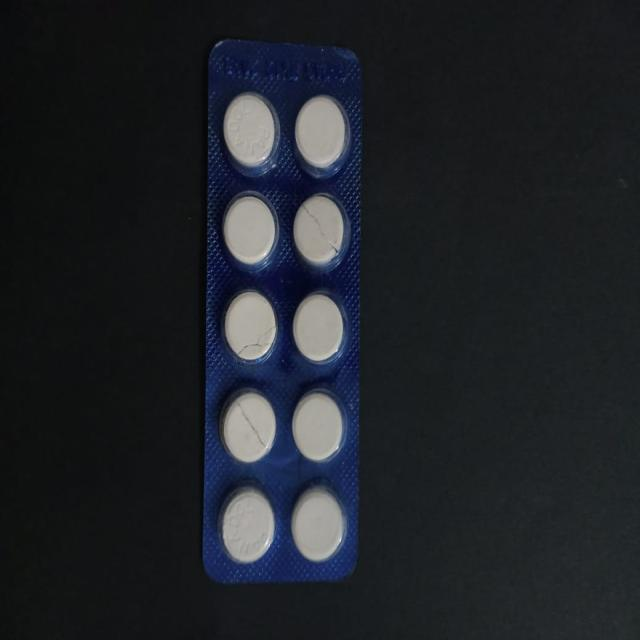defect: (290, 192, 353, 272), (222, 288, 280, 368), (220, 388, 278, 464)
